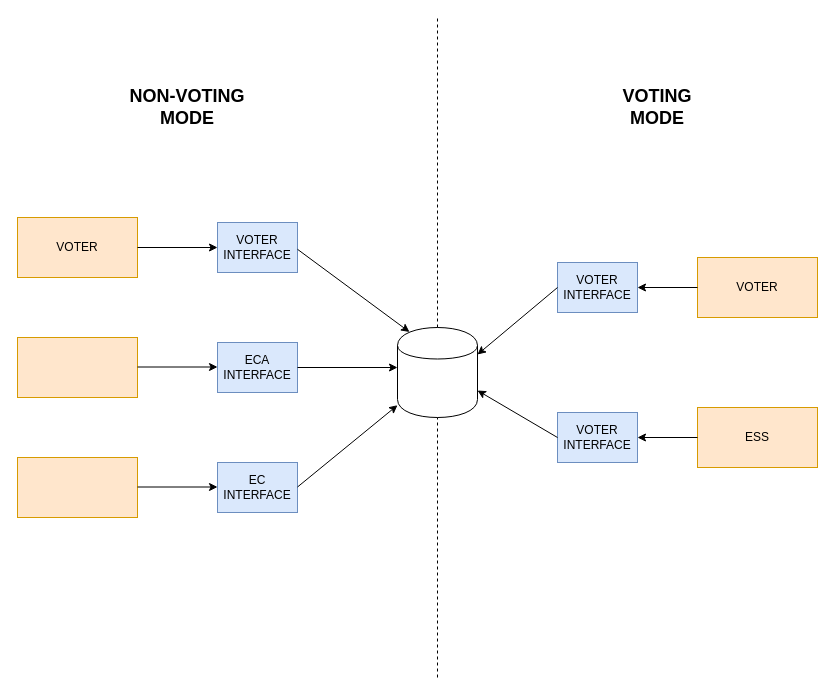
This 835x696 diagram has some shape labels left out. Each missing label, with the centre of its shape:
"Database" goes at (x=437, y=372).
"EC" goes at (x=77, y=487).
"ECA" goes at (x=77, y=367).
